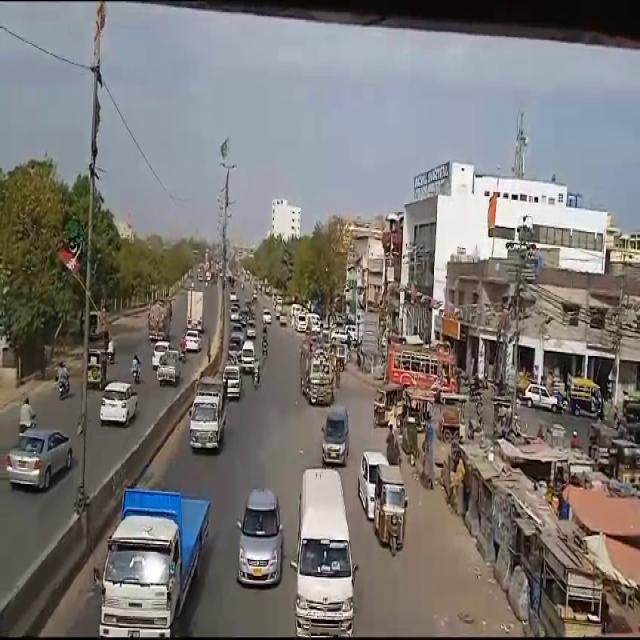car: (238, 490, 284, 589), (6, 429, 74, 494), (101, 381, 139, 426), (154, 350, 180, 388), (184, 332, 203, 352)
truck: (92, 477, 216, 640), (187, 368, 230, 464)
